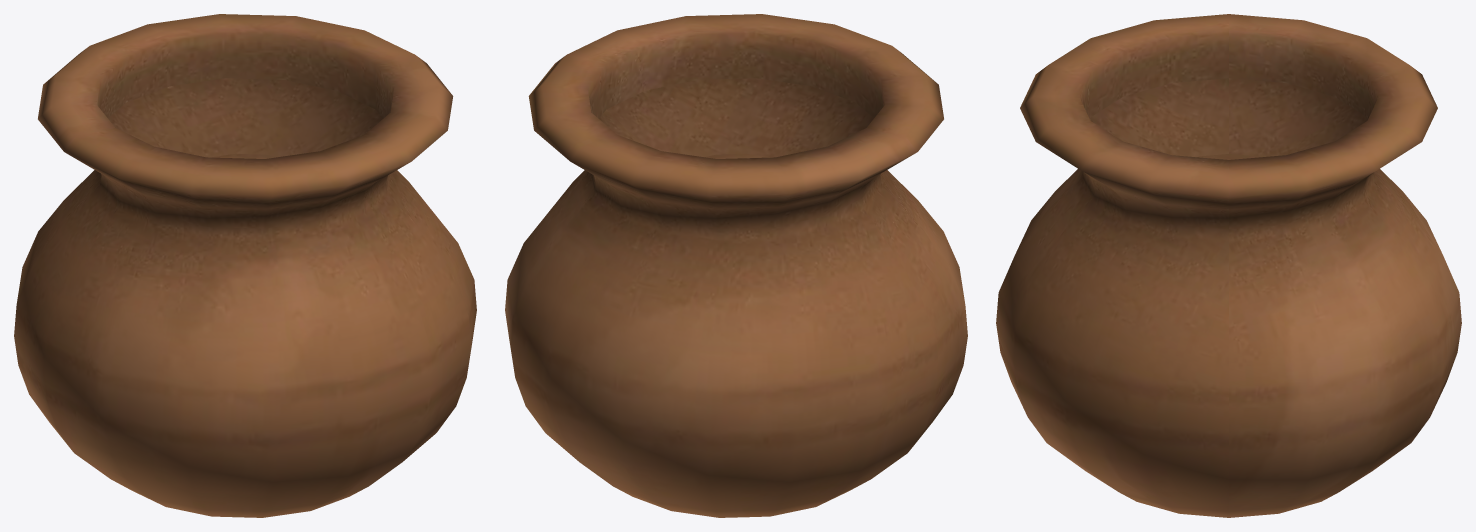
The picture shows the model from 3 angles, left to right: view 1: azimuth 30°, elevation 25°; view 2: azimuth 150°, elevation 25°; view 3: azimuth 270°, elevation 25°; orthographic projection.
Visible parts, largest first — view 1: body0_model0_lod0_mesh0; view 2: body0_model0_lod0_mesh0; view 3: body0_model0_lod0_mesh0.
Boxes of the visible parts, <box> form: body0_model0_lod0_mesh0: <box>14,14,476,517</box>; body0_model0_lod0_mesh0: <box>505,14,967,517</box>; body0_model0_lod0_mesh0: <box>996,14,1461,517</box>.
Bounding box in the file's own units: 41.51 × 36 × 41.51.
1 material, 1 textured.
